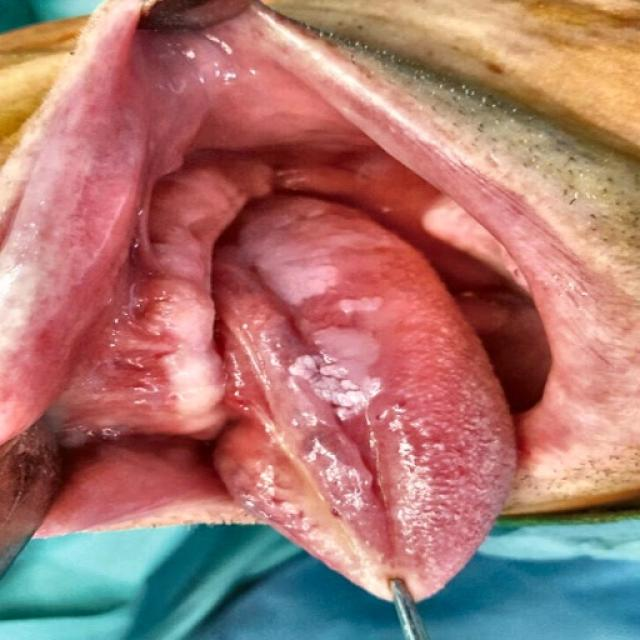leukoplakia-detection: (220, 181, 419, 448)
processing_area: (4, 27, 580, 580)
